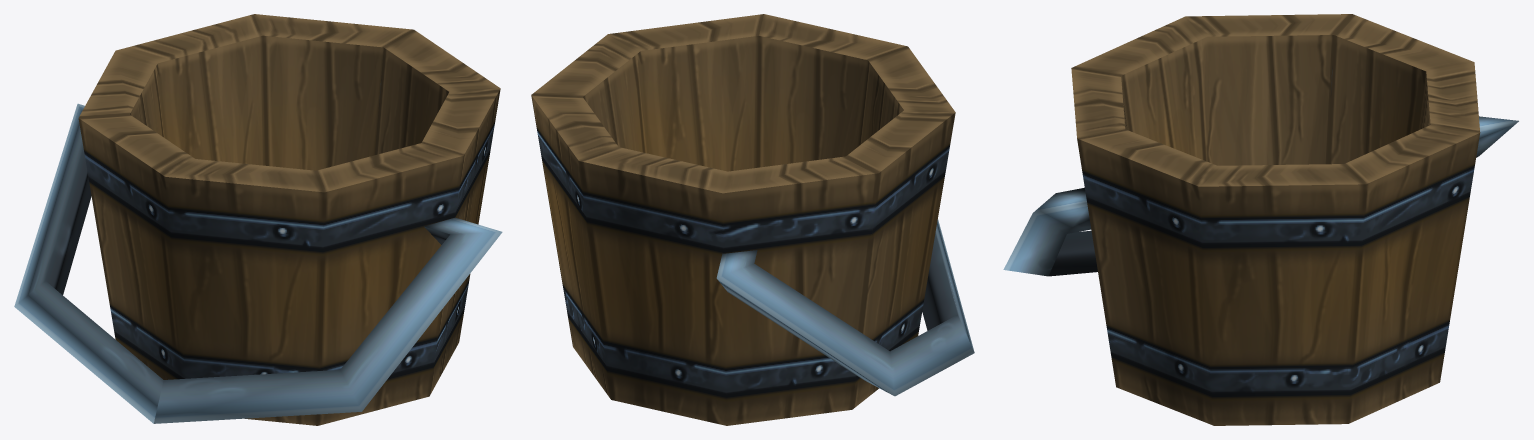
File: bucket_empty.fbx
3 views of the same model, side by side, from view 1: azimuth 30°, elevation 25°; view 2: azimuth 150°, elevation 25°; view 3: azimuth 270°, elevation 25° (orthographic). The views are drawn at different scales.
Parts seen in each view (by area): view 1: bucket_empty; view 2: bucket_empty; view 3: bucket_empty.
Boxes of the visible parts, <box> form: bucket_empty: <box>14,14,502,425</box>; bucket_empty: <box>531,14,974,425</box>; bucket_empty: <box>1003,14,1518,425</box>.
Size of the model in its own units: 66.22 by 41.03 by 74.94.
